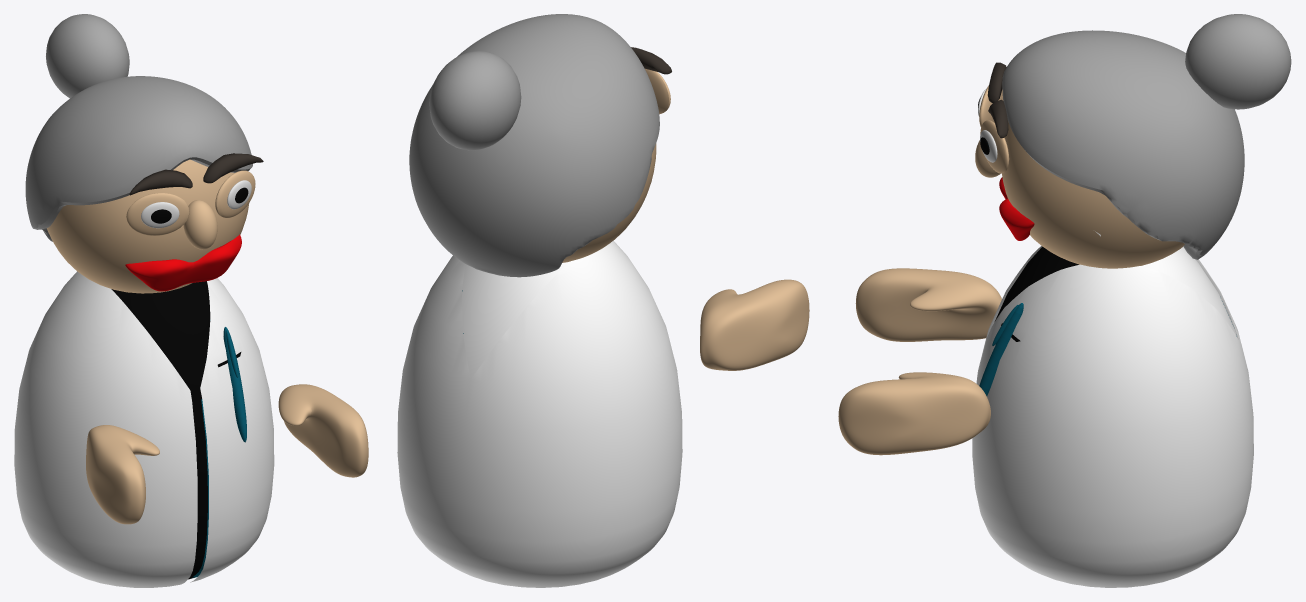
File: BIOSPLASH_CHARFEM.fbx
The picture shows the model from 3 angles, left to right: view 1: azimuth 30°, elevation 25°; view 2: azimuth 150°, elevation 25°; view 3: azimuth 270°, elevation 25°; orthographic projection. The views are drawn at different scales.
Visible parts, largest first — view 1: playerfem; view 2: playerfem; view 3: playerfem.
Boxes of the visible parts, x1,y1,x2,y2 form: playerfem: [14, 14, 368, 587]; playerfem: [397, 14, 809, 587]; playerfem: [838, 14, 1291, 587].
Bounding box in the file's own units: 1.57 × 2.95 × 2.29.
